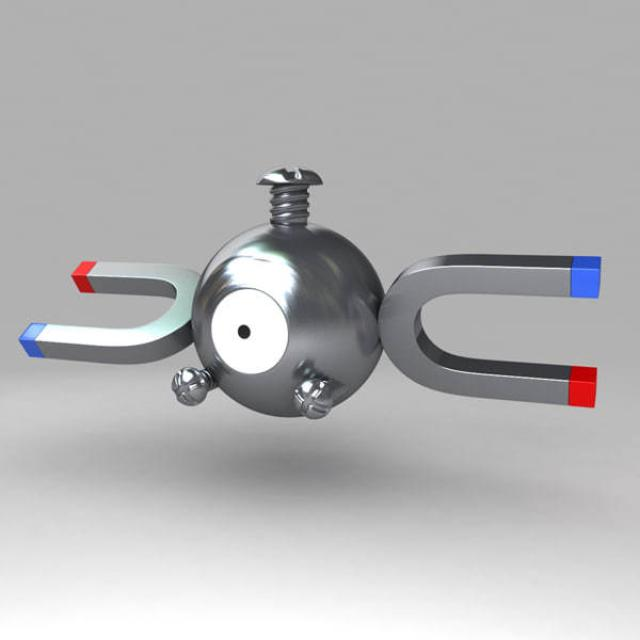Magnemite: (21, 164, 607, 416)
